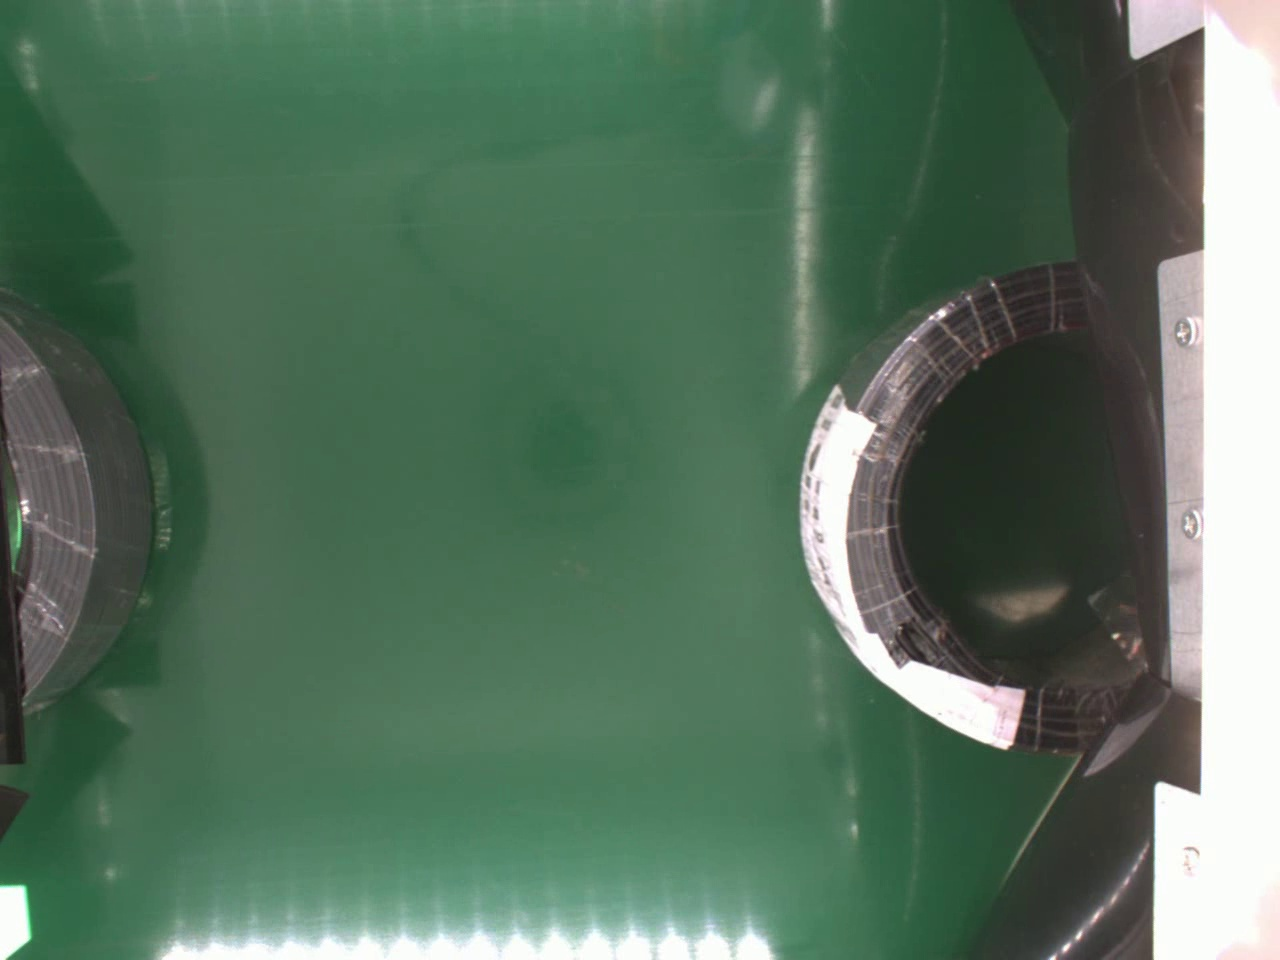black: (797, 255, 1152, 757), (0, 296, 157, 702)
